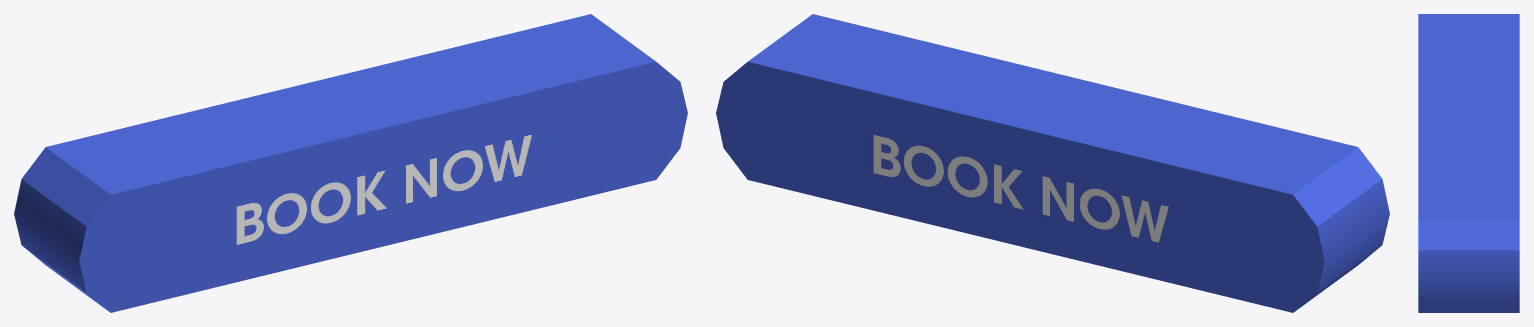
The model's file is link-button-book.glb.
3 renders of one model, left to right at view 1: azimuth 30°, elevation 25°; view 2: azimuth 150°, elevation 25°; view 3: azimuth 270°, elevation 25°, orthographic. The views are drawn at different scales.
Parts seen in each view (by area): view 1: Cube; view 2: Cube; view 3: Cube.
Boxes of the visible parts, x1,y1,x2,y2 form: Cube: (14, 14, 687, 312); Cube: (716, 14, 1389, 312); Cube: (1418, 14, 1519, 312).
Bounding box in the file's own units: 2.62 × 0.4867 × 0.4867.
1 material, 1 textured.
